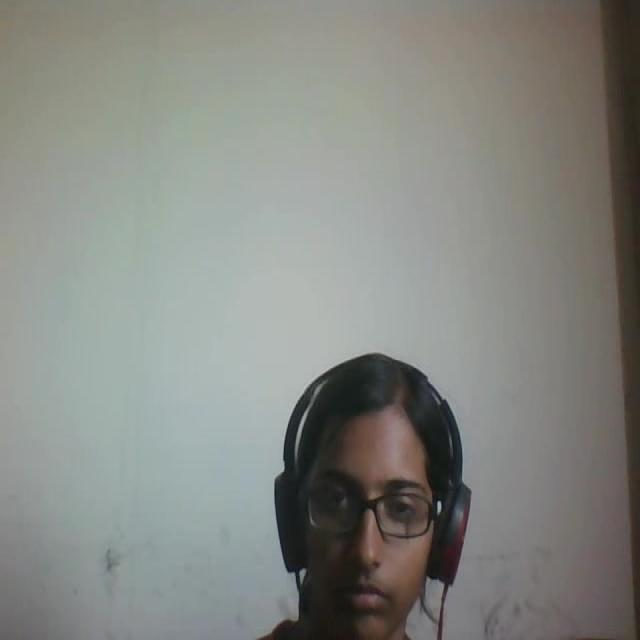Engaged: (247, 346, 477, 640)
